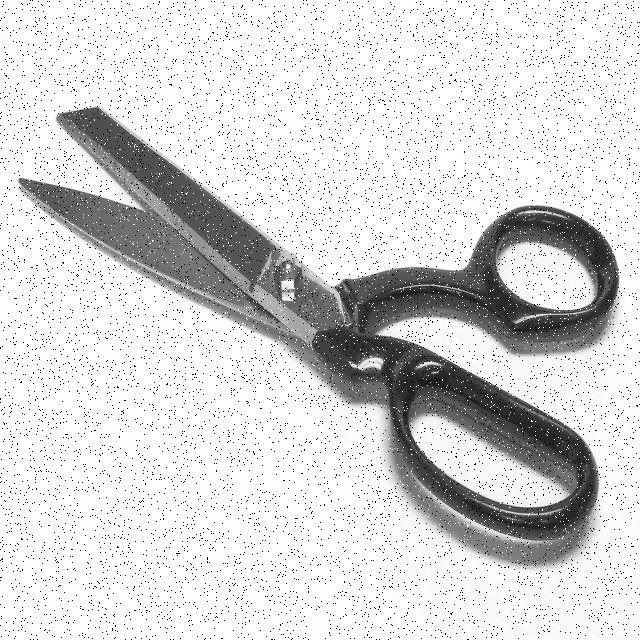scissors: (10, 100, 622, 552)
